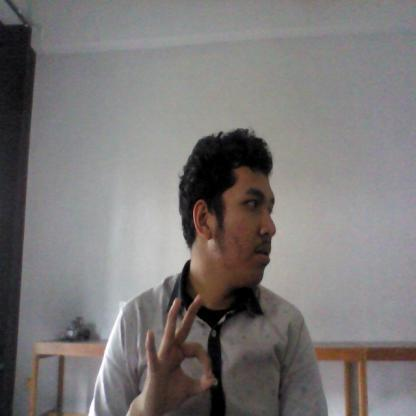O: (136, 292, 228, 413)
